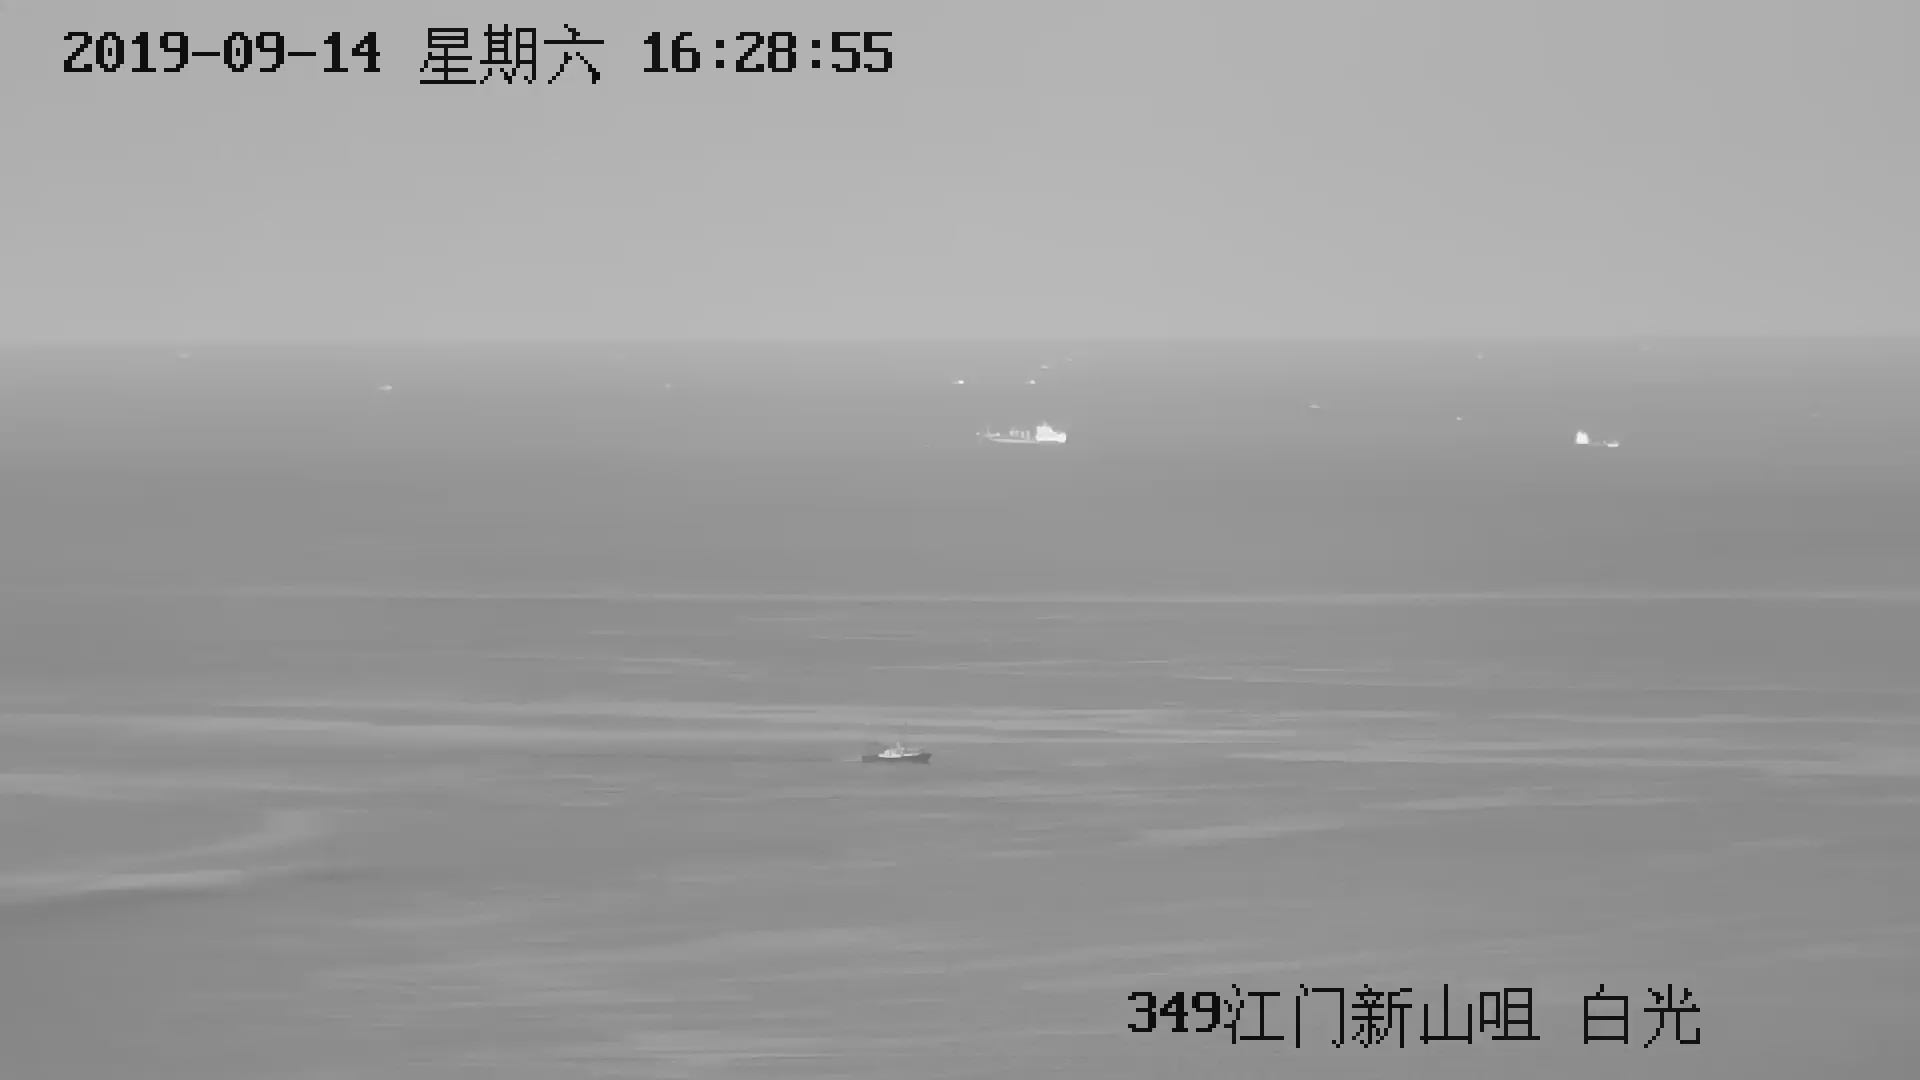ship: (976, 422, 1068, 444), (868, 744, 931, 764)
